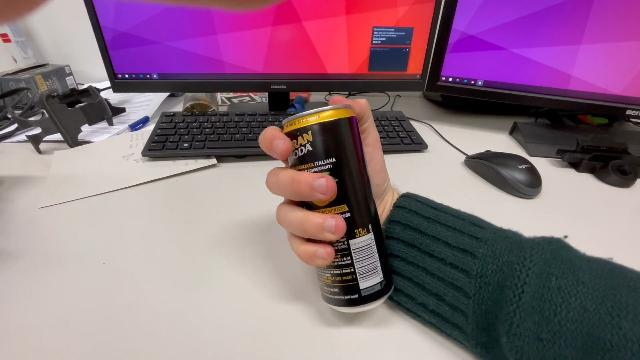OranSoda: (281, 102, 397, 316)
